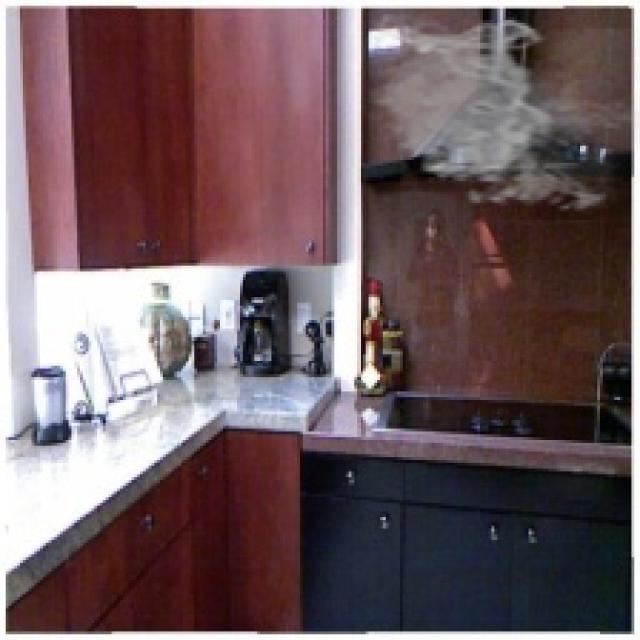smoke: (366, 14, 637, 220)
